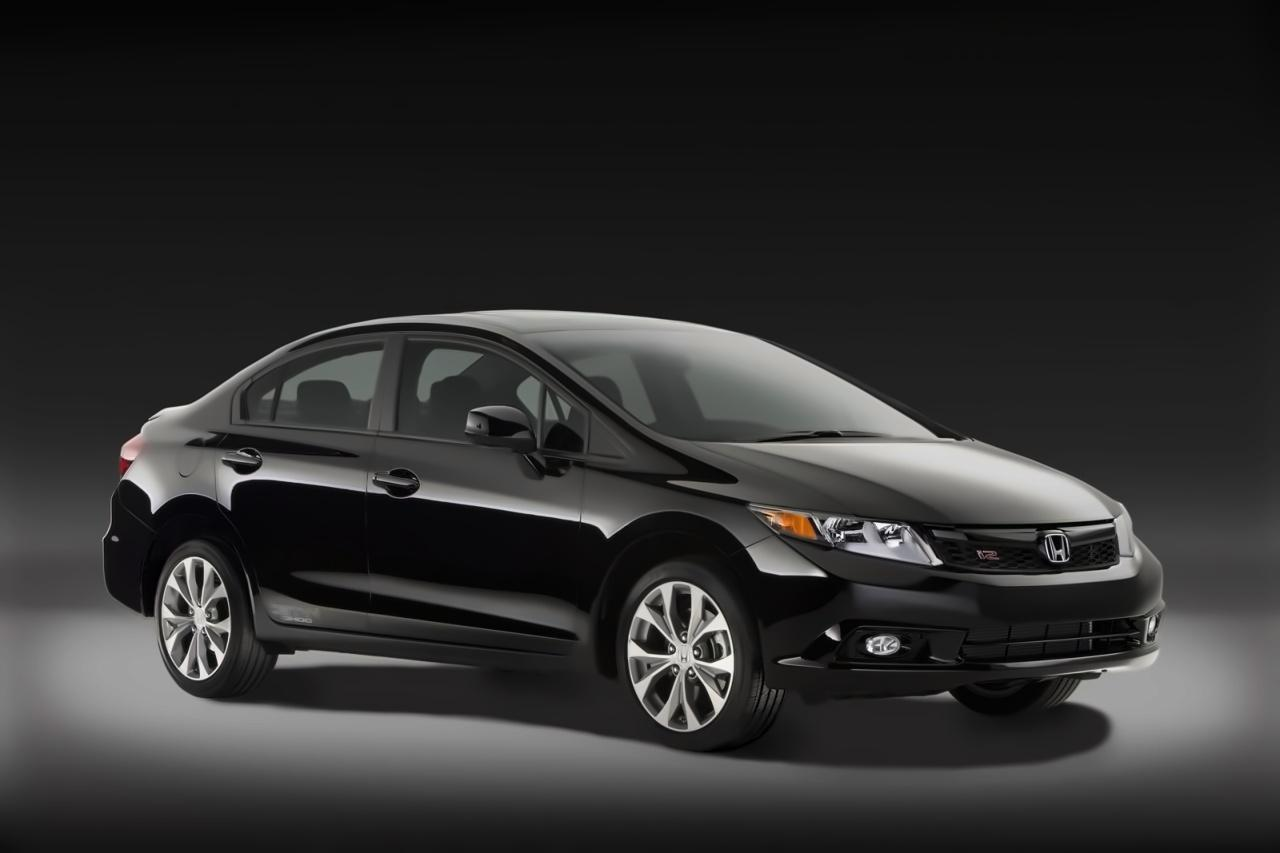Car hood: (692, 432, 1126, 531)
Driver-s door - -F-R-: (367, 319, 577, 664)
Fender - -F-R-: (579, 432, 773, 652)
Fender - -R-R-: (120, 413, 264, 639)
Front bumper: (729, 537, 1168, 704)
Headlight - -L-: (1100, 493, 1146, 563)
Headlight - -R-: (742, 493, 952, 572)
Passenger-s door - -R-R-: (213, 319, 368, 640)
Rear bumper: (100, 493, 161, 624)
Rear light - -R-: (110, 417, 155, 491)
Side bumper - -R-: (234, 596, 620, 690)
Side mirror - -R-: (450, 392, 546, 469)
